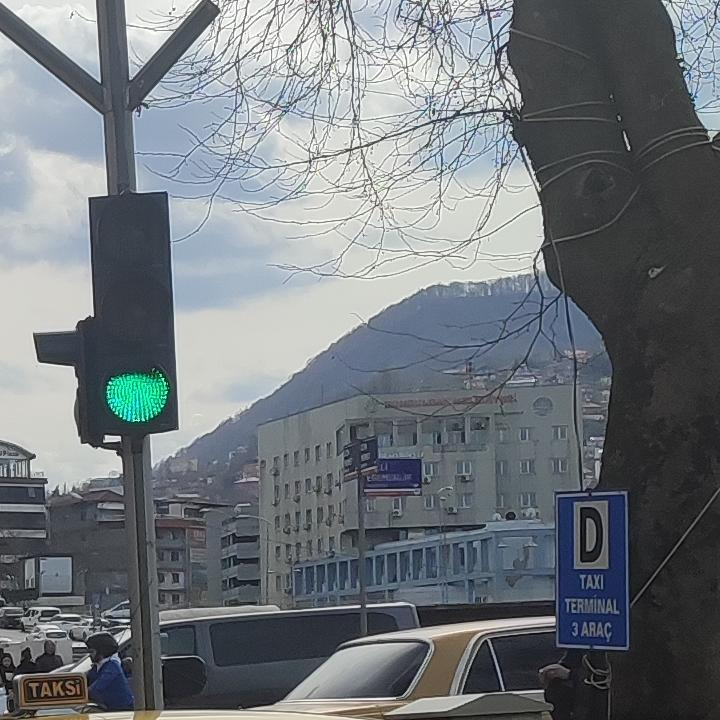green: (80, 184, 181, 435)
